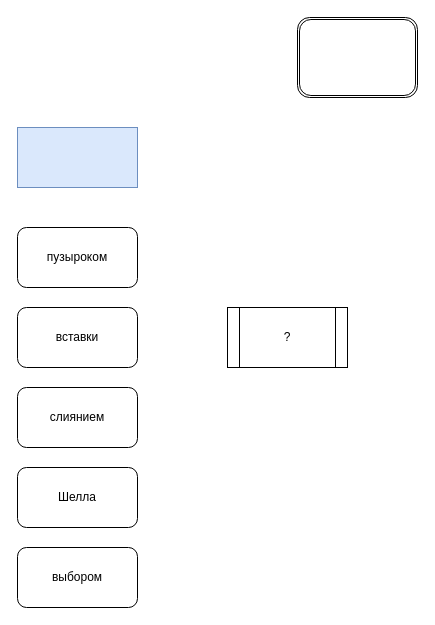
The diagram is 435 pixels wide and 625 high, and some of its shapes have lost their labels. The centre of each missing label's shape, as x and y in pixels:
Алгоритмы: point 357,57
Сортировки: point 77,157
